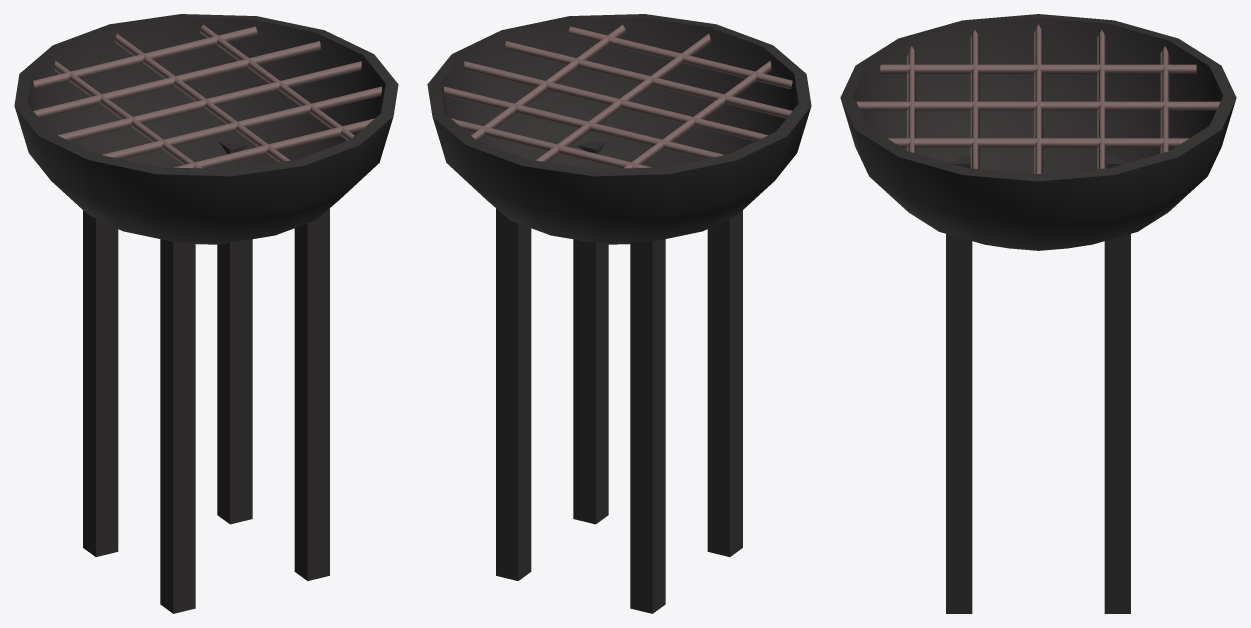
The model's file is mode_BBQ.FBX.
3 views of the same model, side by side, from view 1: azimuth 30°, elevation 25°; view 2: azimuth 150°, elevation 25°; view 3: azimuth 270°, elevation 25° (orthographic). The views are drawn at different scales.
Parts seen in each view (by area): view 1: BBQ; view 2: BBQ; view 3: BBQ.
Boxes of the visible parts, x1,y1,x2,y2 form: BBQ: (14,14,398,613); BBQ: (427,14,811,613); BBQ: (840,14,1236,613).
Size of the model in its own units: 74.98 by 100 by 74.98.
1 material, 1 textured.
